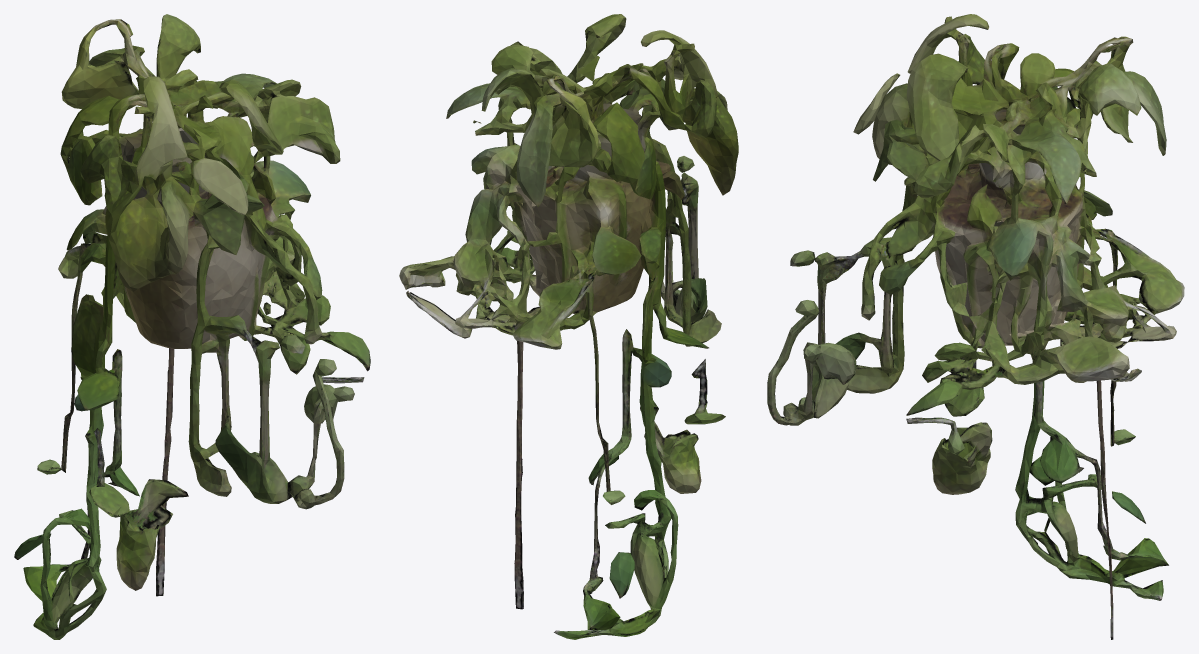
3 renders of one model, left to right at view 1: azimuth 30°, elevation 25°; view 2: azimuth 150°, elevation 25°; view 3: azimuth 270°, elevation 25°, orthographic. The views are drawn at different scales.
Visible parts, largest first — view 1: world; view 2: world; view 3: world.
Boxes of the visible parts, x1=… form: world: x1=14, y1=14, x2=370, y2=639; world: x1=399, y1=14, x2=738, y2=639; world: x1=767, y1=14, x2=1184, y2=639.
Bounding box in the file's own units: 0.4819 × 0.9992 × 0.6457.
Materials: 1 (1 with a texture image).
